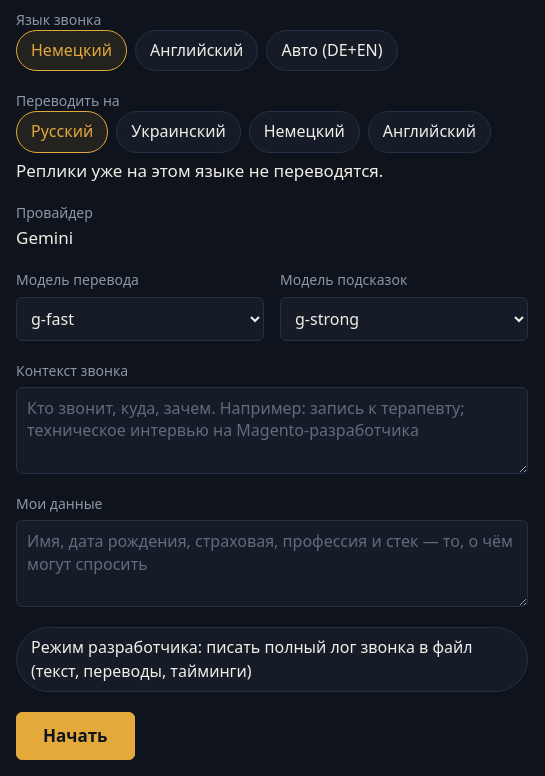
Test: starting a call › gives a general message for other failures
(page scrolled)
Click the button "Начать" at x=75, y=736, box [16,712,134,760]
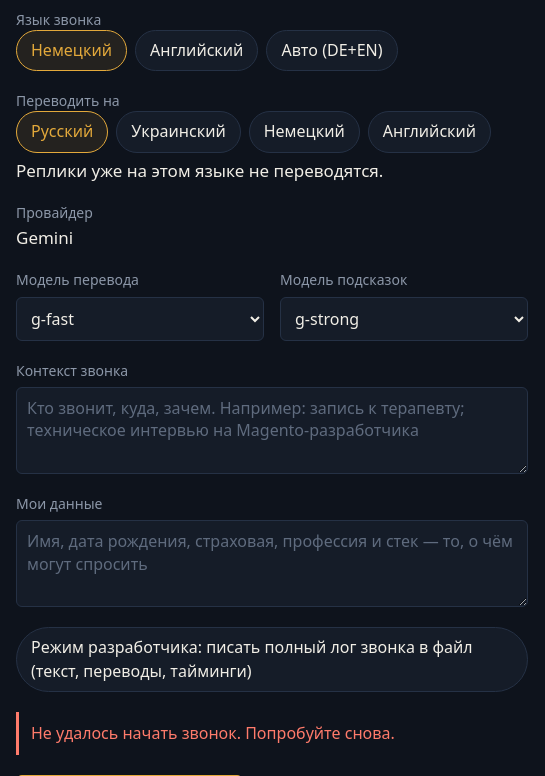
Now the message shows "Не удалось начать звонок", box [31,722,395,744]
